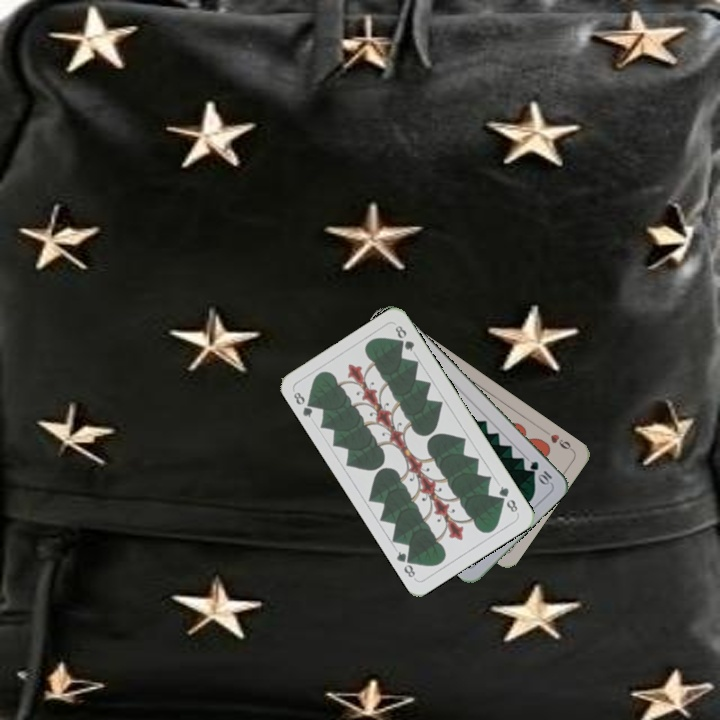G10: (526, 457, 555, 487)
G8: (289, 388, 318, 420), (495, 482, 520, 516)
H9: (540, 426, 576, 454)
